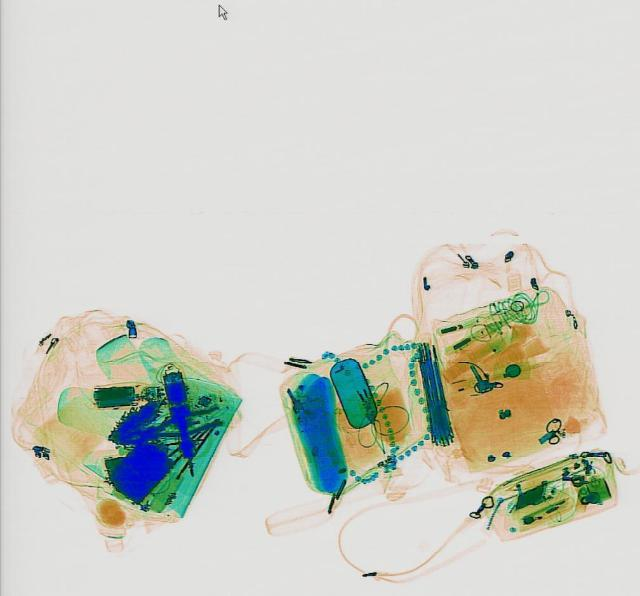Pliers: (118, 401, 226, 450)
